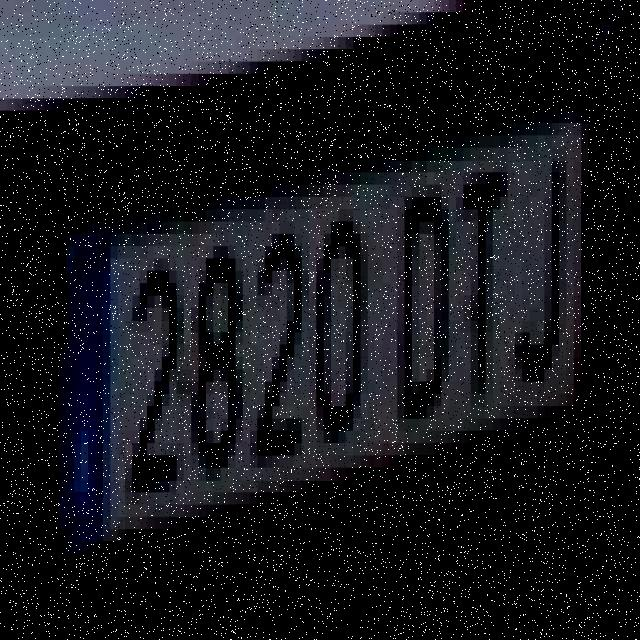licenseplate: (38, 85, 618, 585)
